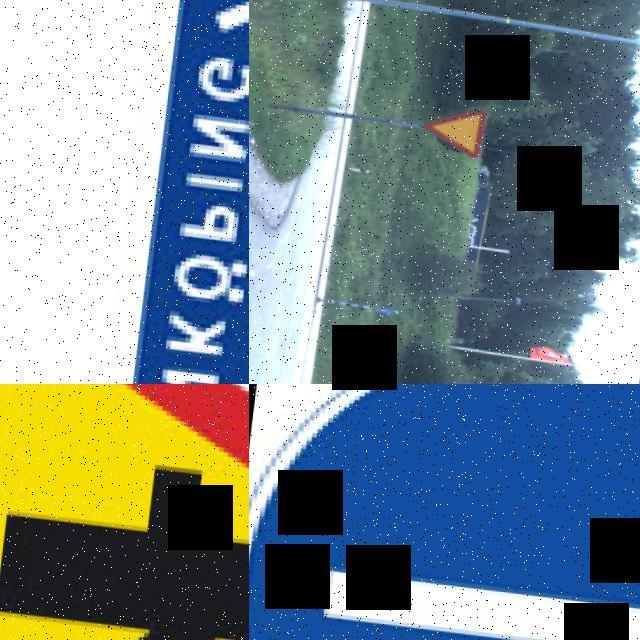166: (0, 384, 249, 640)
174: (419, 95, 494, 155)
3: (126, 0, 249, 384)
Direction sign exit sign: (126, 0, 249, 384)
Direction to be followed: (249, 384, 640, 640)
two way traffic: (0, 0, 249, 384)
